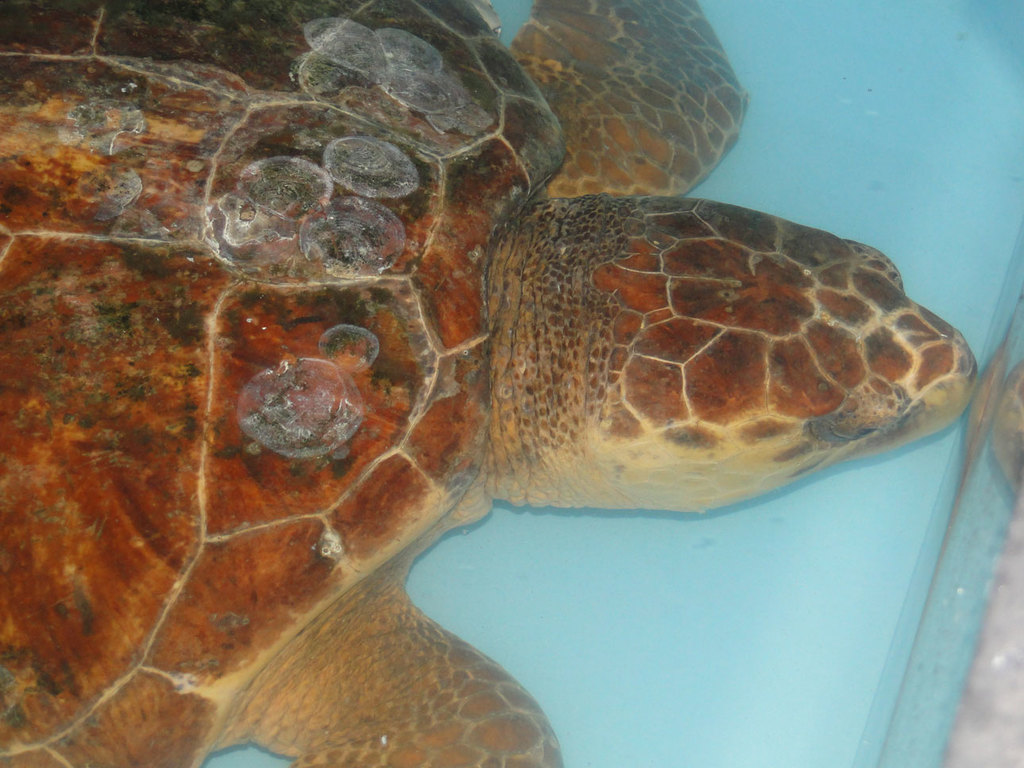Sea turtles: (0, 0, 976, 767)
